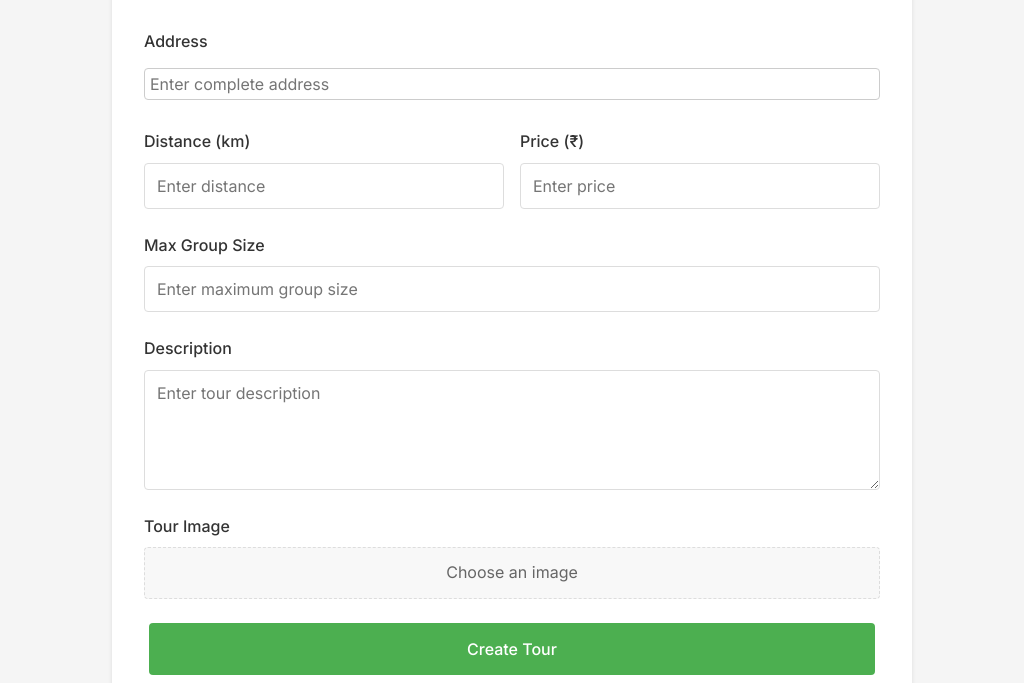
Test: Create Component › validates empty form submission
(page scrolled)
Click the button "Create Tour": click(512, 649) [149,623,875,675]
(page scrolled)
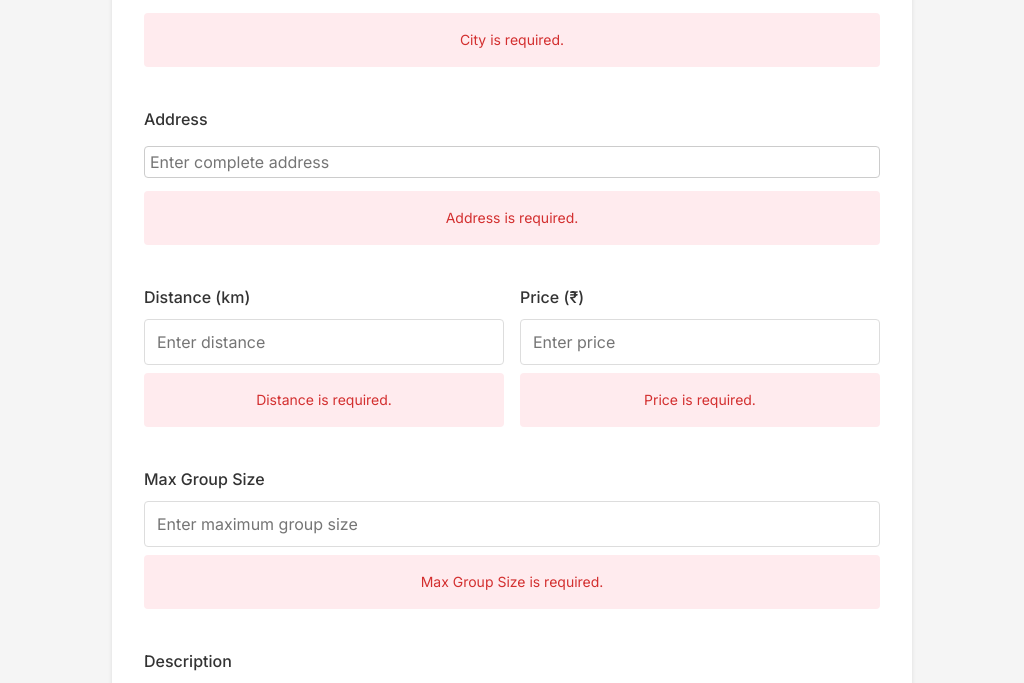
Expected: the text "City is required." is shown, [144,13,880,67]
Expected: the text "Address is required." is shown, [144,191,880,245]
